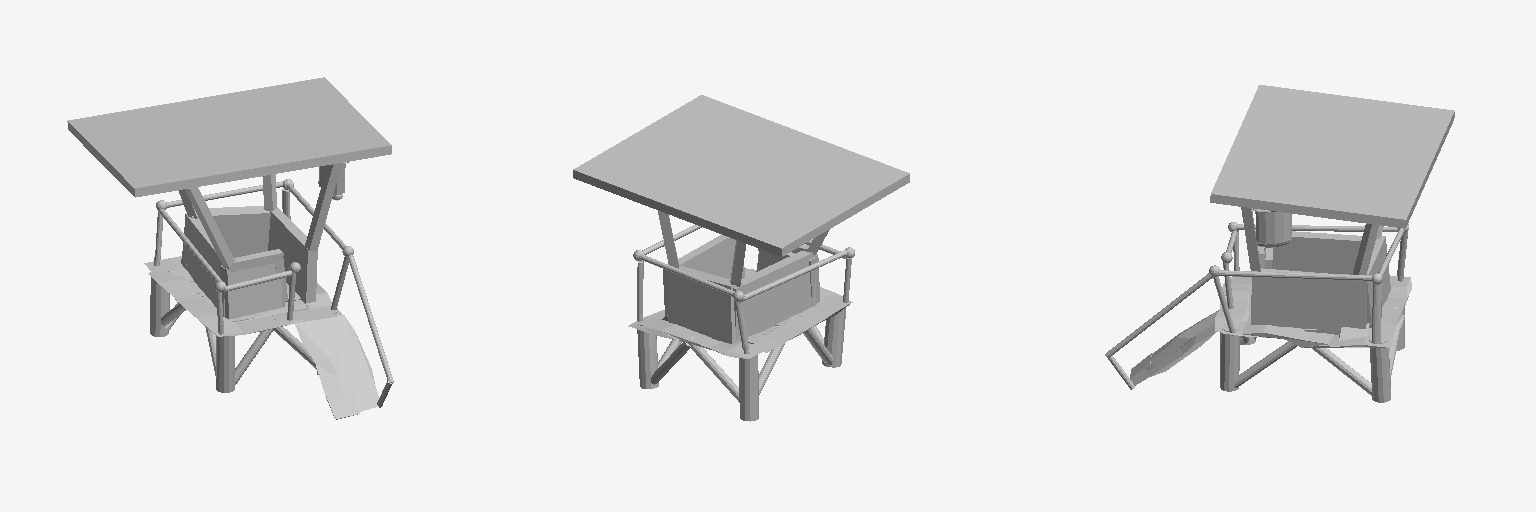
File: tower.obj
The picture shows the model from 3 angles: view 1: azimuth 30°, elevation 25°; view 2: azimuth 150°, elevation 25°; view 3: azimuth 270°, elevation 25°; orthographic projection.
Visible parts, largest first — view 1: group[number redacted], group[number redacted], group[number redacted], group[number redacted], group[number redacted], group[number redacted], group[number redacted], group[number redacted], group[number redacted], group[number redacted], group[number redacted], group[number redacted] (+6 smaller); view 2: group[number redacted], group[number redacted], group[number redacted], group[number redacted], group[number redacted], group[number redacted], group[number redacted], group[number redacted], group[number redacted], group[number redacted], group[number redacted], group[number redacted] (+2 smaller); view 3: group[number redacted], group[number redacted], group[number redacted], group[number redacted], group[number redacted], group[number redacted], group[number redacted], group[number redacted], group[number redacted], group[number redacted], group[number redacted], group[number redacted] (+8 smaller).
Boxes of the visible parts, x1,y1,x2,y2 form: group[number redacted]: [67, 77, 391, 197]; group[number redacted]: [294, 320, 359, 401]; group[number redacted]: [181, 206, 270, 268]; group[number redacted]: [268, 207, 317, 302]; group[number redacted]: [220, 263, 281, 319]; group[number redacted]: [319, 315, 378, 411]; group[number redacted]: [183, 213, 226, 316]; group[number redacted]: [148, 271, 243, 336]; group[number redacted]: [305, 163, 341, 250]; group[number redacted]: [185, 187, 235, 267]; group[number redacted]: [220, 308, 342, 335]; group[number redacted]: [216, 336, 234, 392]; group[number redacted]: [573, 95, 909, 256]; group[number redacted]: [733, 251, 816, 339]; group[number redacted]: [667, 266, 741, 343]; group[number redacted]: [663, 234, 744, 316]; group[number redacted]: [749, 295, 852, 352]; group[number redacted]: [629, 317, 761, 358]; group[number redacted]: [739, 352, 758, 421]; group[number redacted]: [637, 319, 658, 388]; group[number redacted]: [822, 308, 845, 367]; group[number redacted]: [739, 250, 846, 302]; group[number redacted]: [688, 337, 739, 402]; group[number redacted]: [758, 248, 819, 305]; group[number redacted]: [1210, 85, 1454, 228]; group[number redacted]: [1251, 268, 1367, 331]; group[number redacted]: [1272, 231, 1361, 274]; group[number redacted]: [1221, 321, 1390, 347]; group[number redacted]: [1365, 276, 1411, 345]; group[number redacted]: [1220, 324, 1239, 391]; group[number redacted]: [1369, 334, 1390, 402]; group[number redacted]: [1256, 212, 1291, 242]; group[number redacted]: [1130, 323, 1216, 385]; group[number redacted]: [1367, 236, 1390, 327]; group[number redacted]: [1145, 308, 1222, 369]; group[number redacted]: [1218, 270, 1372, 280].
Size of the model in its own units: 1.56 by 1.26 by 1.8.